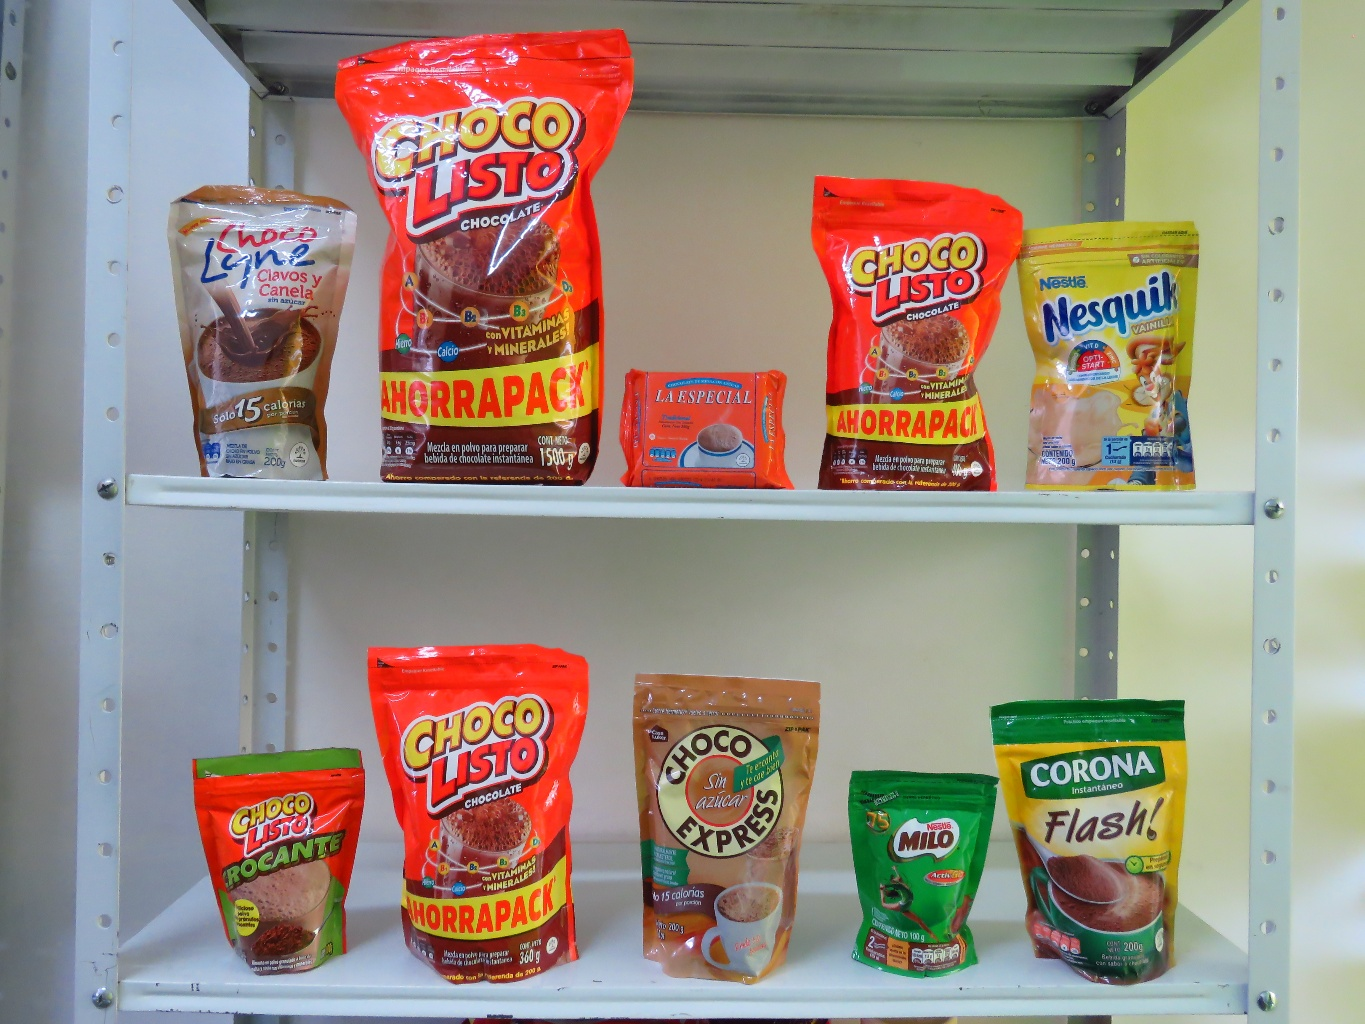COL0170102DYP10000: (176, 721, 374, 991)
COL0170103DYP1,500: (313, 12, 645, 499)
COL0170103DYP36000: (344, 624, 632, 993)
COL0170103DYP40000: (784, 157, 1022, 503)
COL0170203DYP10000: (834, 765, 1010, 987)
COL0170306DYP20000: (992, 193, 1229, 503)
